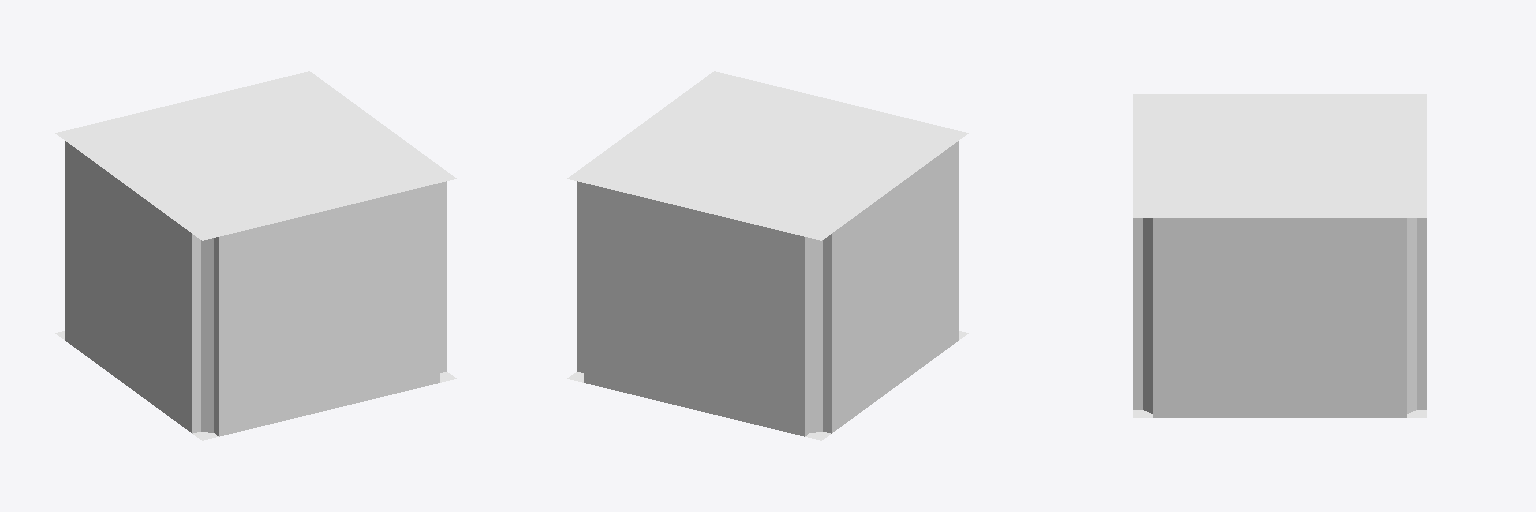
File: Secret Aquarium Area 1.obj
3 renders of one model, left to right at view 1: azimuth 30°, elevation 25°; view 2: azimuth 150°, elevation 25°; view 3: azimuth 270°, elevation 25°, orthographic.
Size of the model in its own units: 12286 by 9214 by 12286.